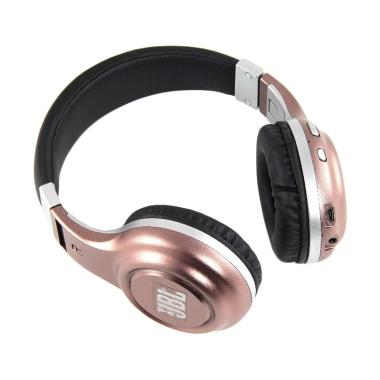Headphone: (29, 40, 352, 337)
